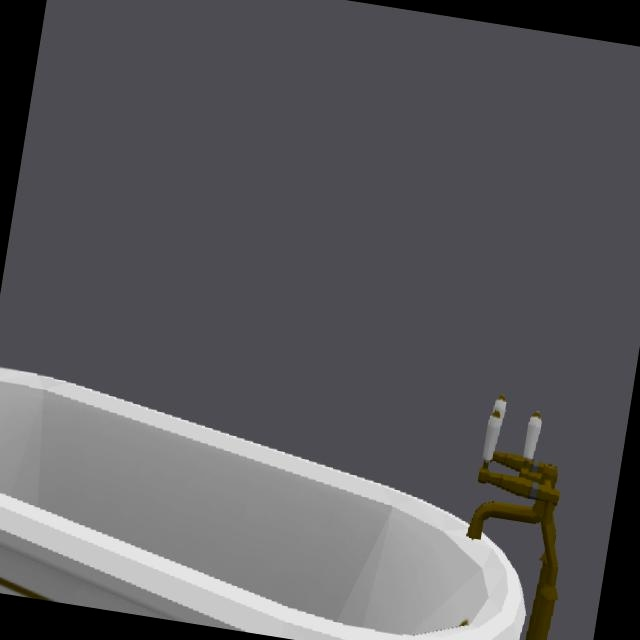bathtube: (0, 372, 525, 640)
